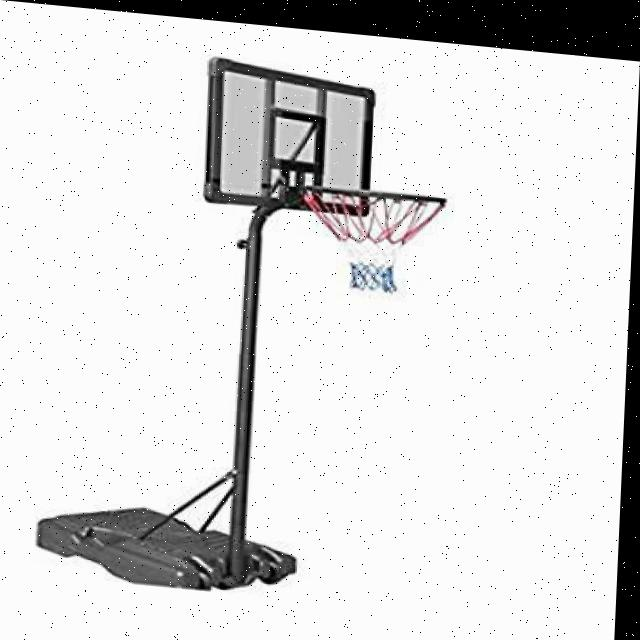hoop: (299, 183, 447, 298)
